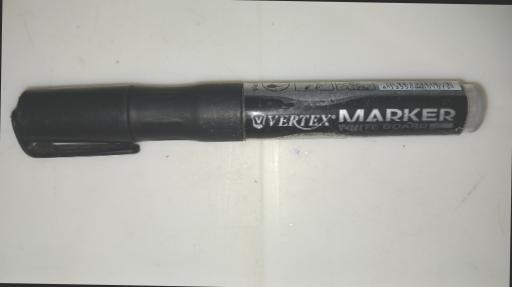Whiteboard marker: (9, 72, 487, 165)
